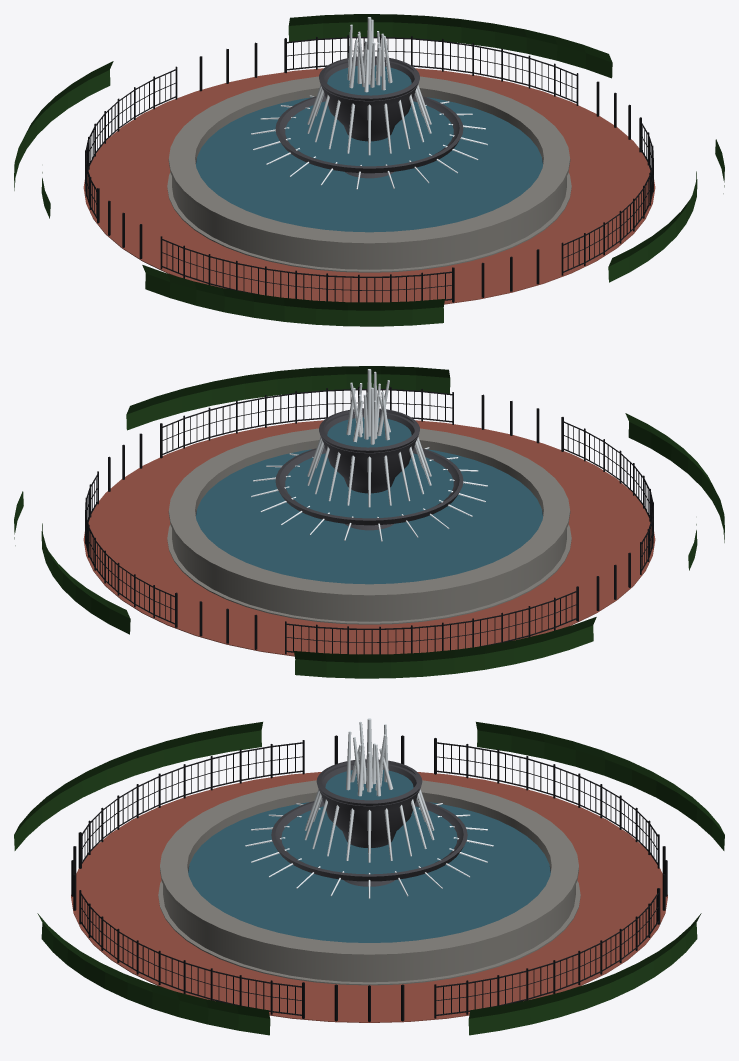
Rendered from fontan_bulvar.glb.
3 views of the same model, one above another, from view 1: azimuth 30°, elevation 25°; view 2: azimuth 150°, elevation 25°; view 3: azimuth 270°, elevation 25° (orthographic). The views are drawn at different scales.
Visible parts, largest first — view 1: fontan_bulvar_roof, fontan_bulvar_glass, fontan_bulvar_stone_s, fontan_bulvar_wall2, fontan_bulvar_metal_s, fontan_bulvar_wall3_s, fontan_bulvar_trim; view 2: fontan_bulvar_roof, fontan_bulvar_glass, fontan_bulvar_stone_s, fontan_bulvar_wall2, fontan_bulvar_metal_s, fontan_bulvar_wall3_s, fontan_bulvar_trim; view 3: fontan_bulvar_roof, fontan_bulvar_glass, fontan_bulvar_stone_s, fontan_bulvar_wall2, fontan_bulvar_metal_s, fontan_bulvar_wall3_s, fontan_bulvar_trim.
Part boxes in pixels (x1,y1,x2,y2): fontan_bulvar_roof: (83,68,655,304); fontan_bulvar_glass: (196,65,542,232); fontan_bulvar_stone_s: (167,76,571,272); fontan_bulvar_wall2: (14,14,724,326); fontan_bulvar_metal_s: (85,35,653,302); fontan_bulvar_wall3_s: (195,56,543,178); fontan_bulvar_trim: (251,17,487,189); fontan_bulvar_roof: (83,420,655,656); fontan_bulvar_glass: (196,417,542,584); fontan_bulvar_stone_s: (167,428,571,624); fontan_bulvar_wall2: (14,366,724,678); fontan_bulvar_metal_s: (85,387,653,654); fontan_bulvar_wall3_s: (195,408,543,530); fontan_bulvar_trim: (251,369,487,541); fontan_bulvar_roof: (71,772,667,1022); fontan_bulvar_glass: (188,769,550,942); fontan_bulvar_stone_s: (158,780,580,985); fontan_bulvar_wall2: (14,722,724,1035); fontan_bulvar_metal_s: (71,735,667,1021); fontan_bulvar_wall3_s: (188,759,550,886); fontan_bulvar_trim: (245,718,493,898).
Size of the model in its own units: 17.74 by 5.2 by 17.74.
